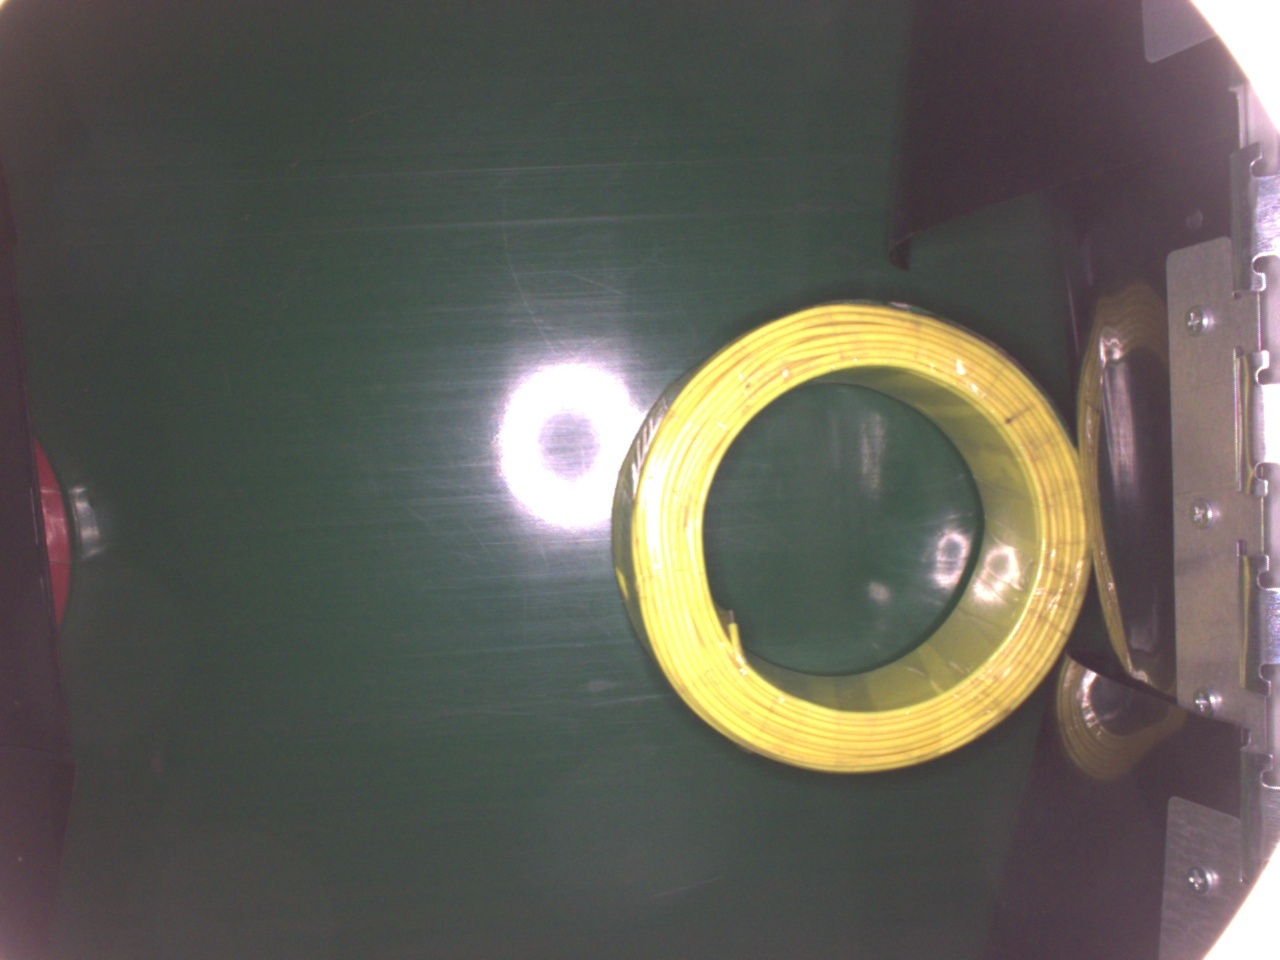yellow: (614, 295, 1085, 781)
